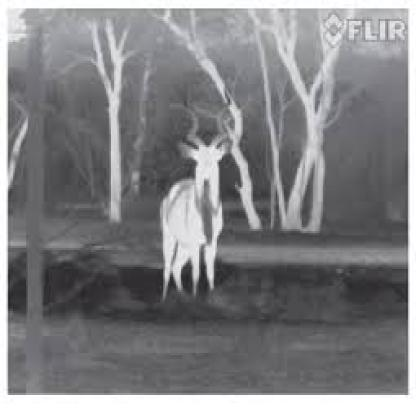rehkitze: (158, 138, 227, 300)
